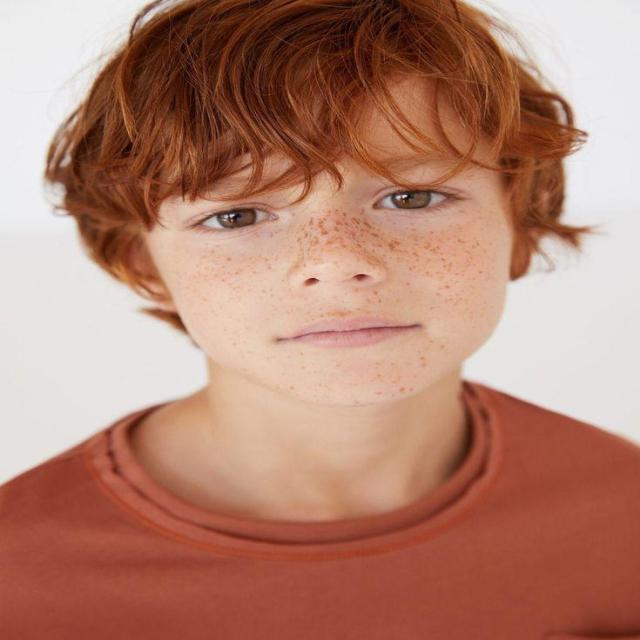freckle: (177, 212, 505, 316)
